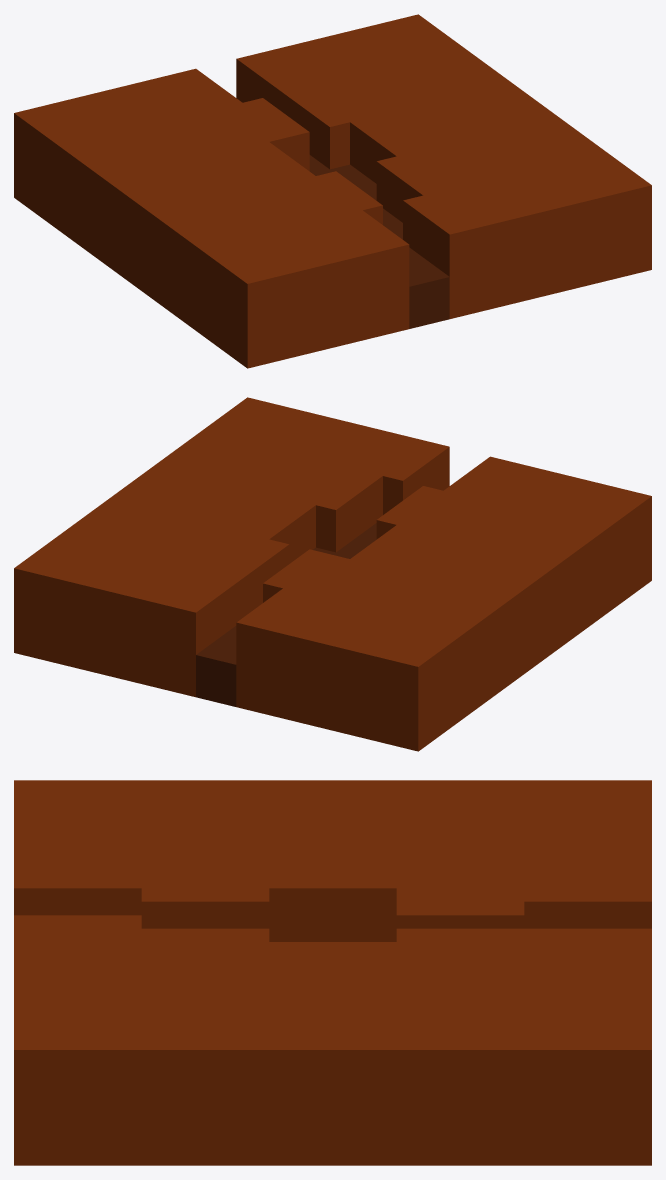
Rendered from EarthQuake.fbx.
The picture shows the model from 3 angles, top to bottom: view 1: azimuth 30°, elevation 25°; view 2: azimuth 150°, elevation 25°; view 3: azimuth 270°, elevation 25°; orthographic projection. The views are drawn at different scales.
Visible parts, largest first — view 1: Cube.006, Cube.007, Cube.010; view 2: Cube.006, Cube.007, Cube.010; view 3: Cube.007, Cube.006.
Boxes of the visible parts, x1=… form: Cube.006: x1=14, y1=68, x2=409, y2=368; Cube.007: x1=236, y1=14, x2=651, y2=318; Cube.010: x1=309, y1=155, x2=449, y2=328; Cube.006: x1=236, y1=456, x2=651, y2=751; Cube.007: x1=14, y1=397, x2=449, y2=697; Cube.010: x1=196, y1=523, x2=376, y2=706; Cube.007: x1=14, y1=915, x2=651, y2=1165; Cube.006: x1=14, y1=780, x2=651, y2=941.
Size of the model in its own units: 200 by 40 by 200.
